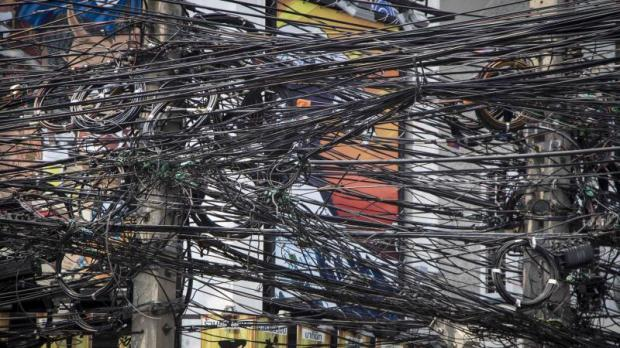wires: (178, 2, 527, 345), (0, 2, 131, 347), (562, 1, 620, 348)
